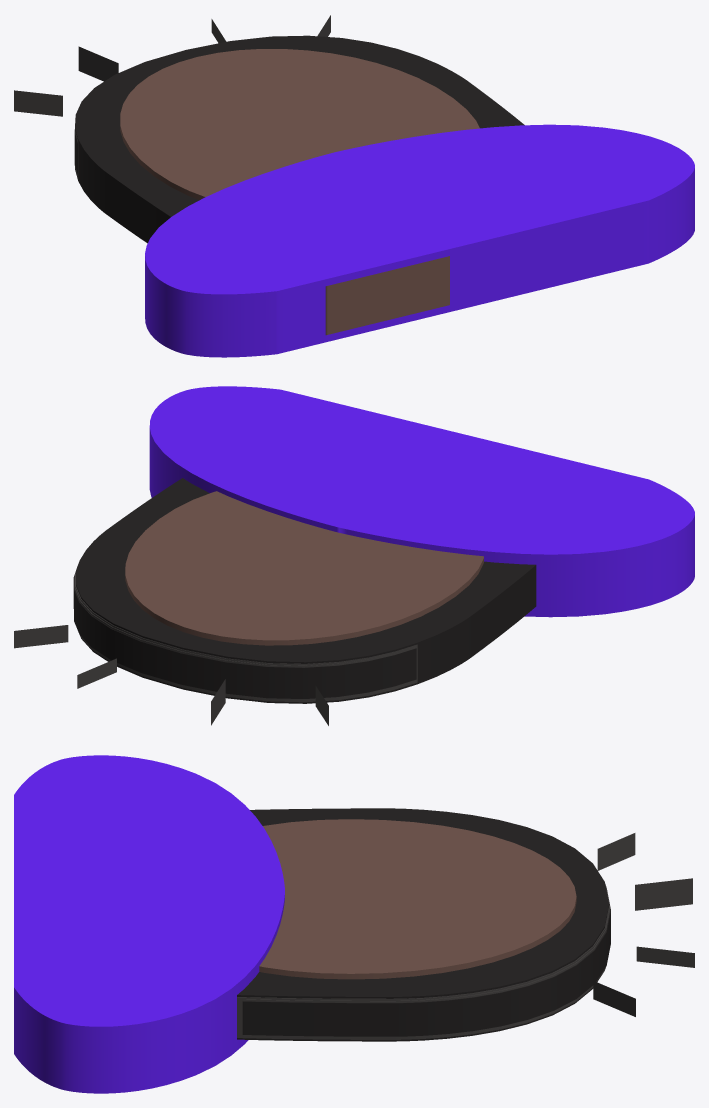
File: emoji_u1f647_1f3ff_200d_2640.glb
3 renders of one model, top to bottom at view 1: azimuth 30°, elevation 25°; view 2: azimuth 150°, elevation 25°; view 3: azimuth 270°, elevation 25°, orthographic. The views are drawn at different scales.
Visible parts, largest first — view 1: emoji_u1f647_1f3ff_200d_2640; view 2: emoji_u1f647_1f3ff_200d_2640; view 3: emoji_u1f647_1f3ff_200d_2640.
Part boxes in pixels (x1,y1,x2,y2): emoji_u1f647_1f3ff_200d_2640: [14, 15, 694, 357]; emoji_u1f647_1f3ff_200d_2640: [14, 386, 694, 725]; emoji_u1f647_1f3ff_200d_2640: [14, 755, 694, 1093].
Bounding box in the file's own units: 0.0313 × 0.0036 × 0.0332.
